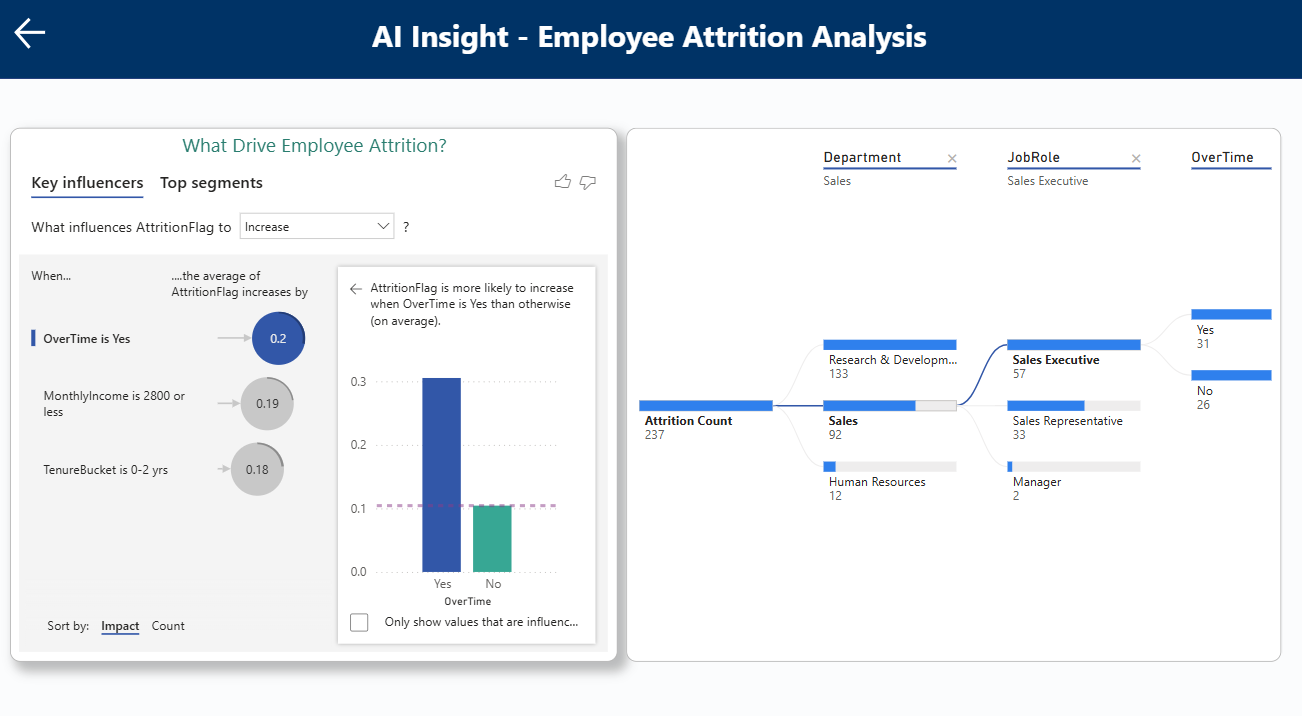

This screenshot's page, from the dashboard's own definition file:
{"tool":"powerbi","page":{"name":"AI Insight","canvas":[1280,720],"ordinal":1},"visuals":[{"type":"keyDriversVisual","title":"What Drive Employee Attrition?","fields":{"ExplainBy":["HR_attrition.OverTime","DimDepartment.Department","DimTenureBucket.TenureBucket","HR_attrition.MonthlyIncome"],"Target":["HR_attrition.AttritionFlag"]},"box":[14.7,135.7,594.3,522.1],"z":0},{"type":"decompositionTreeVisual","fields":{"Analyze":["HR_attrition.Attrition Count"],"ExplainBy":["HR_attrition.Department","HR_attrition.JobRole","HR_attrition.OverTime","DimTenureBucket.TenureBucket"]},"box":[617.5,135.7,640.8,522.1],"z":1000},{"type":"shape","box":[0,0,1280.3,88],"z":2000},{"type":"actionButton","box":[14.7,23.2,100.3,40.4],"z":3000}]}

Visuals, with their boxes in screenshot pixels (x1, y1, x2, y2), scaled from the page's 1280x720 canvas onto the 1302x716 screenshot:
"What Drive Employee Attrition?" keyDriversVisual: bbox=[15, 135, 619, 654]
decompositionTreeVisual - HR_attrition.Attrition Count x HR_attrition.Department: bbox=[628, 135, 1280, 654]
shape: bbox=[0, 0, 1301, 88]
actionButton: bbox=[15, 23, 117, 63]
